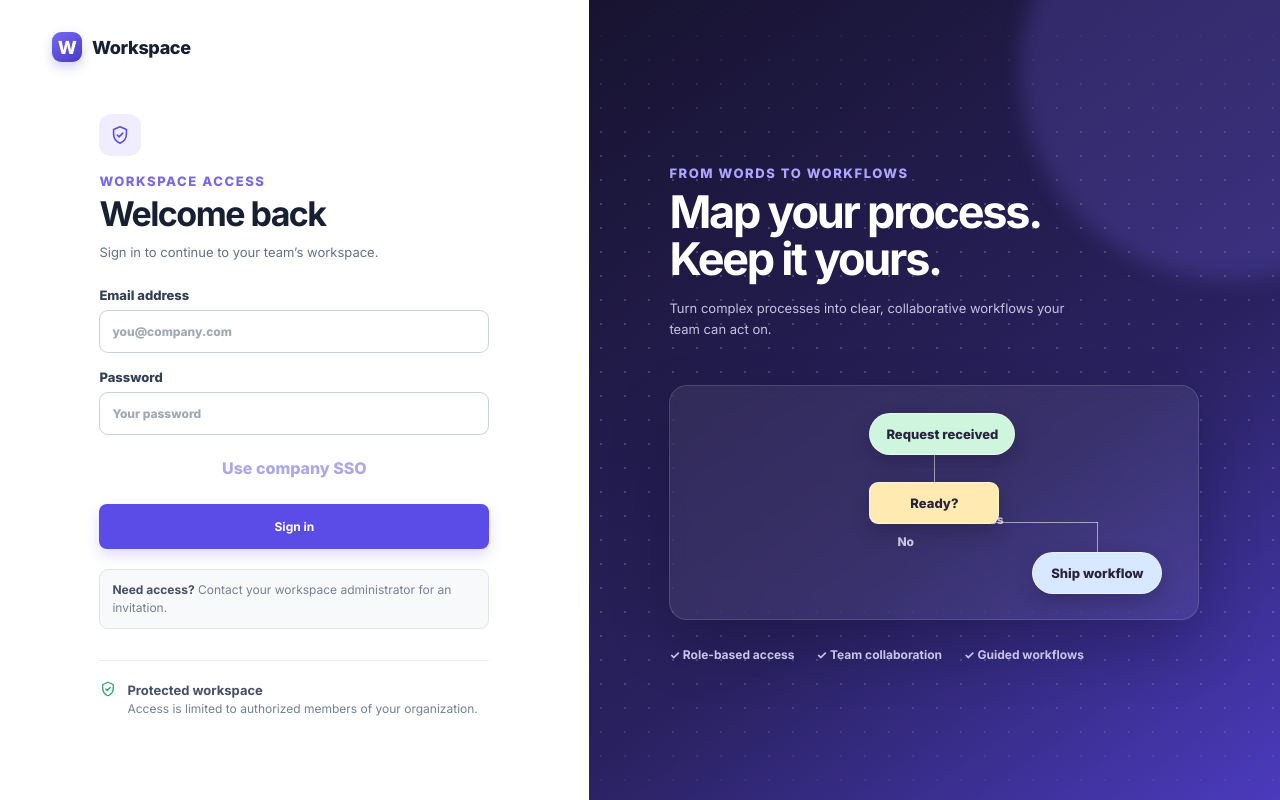
it: offers the configured provider when password login requires SSO
This screenshot has width=1280, height=800.
Type "member@acme.example" into the field labelled "Email address" at (294, 331), box [99,310,489,353]
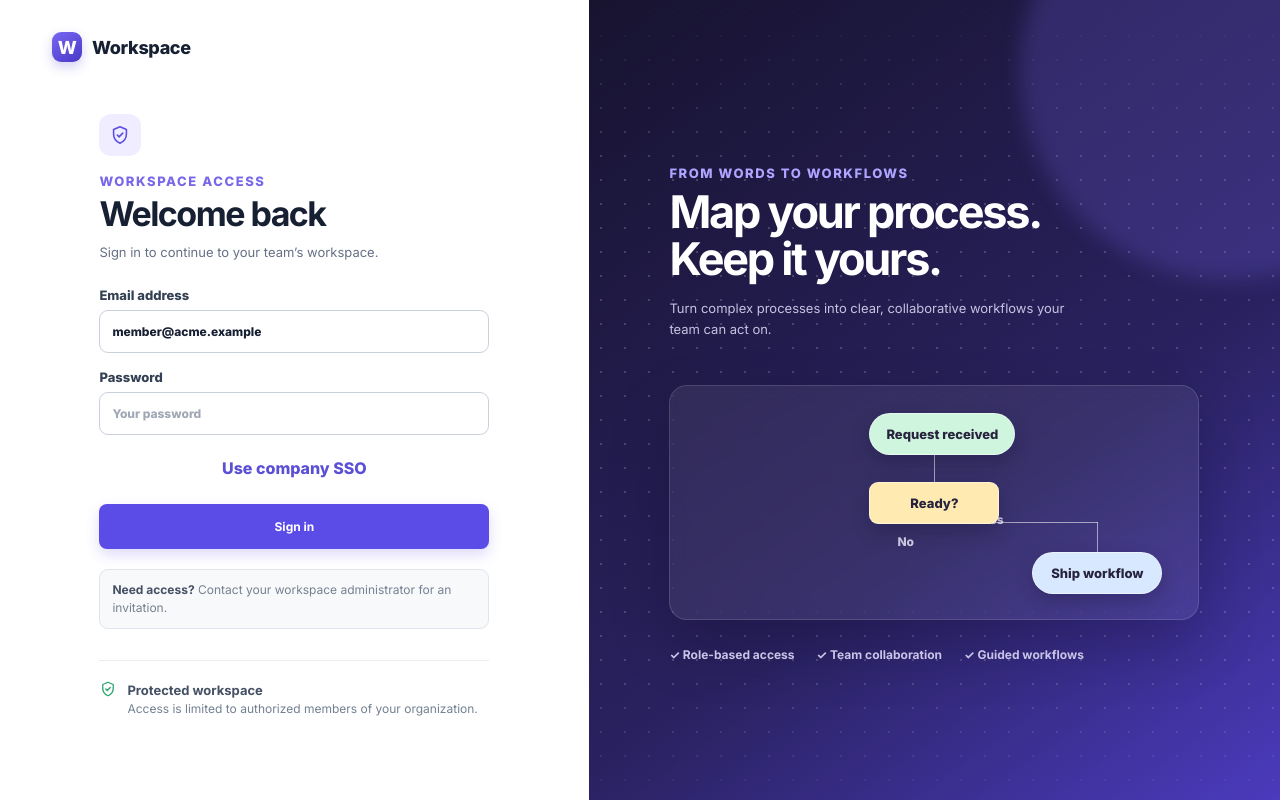
Type "SecurePass123!" into the password field labelled "Password" at (294, 413), box [99,392,489,435]
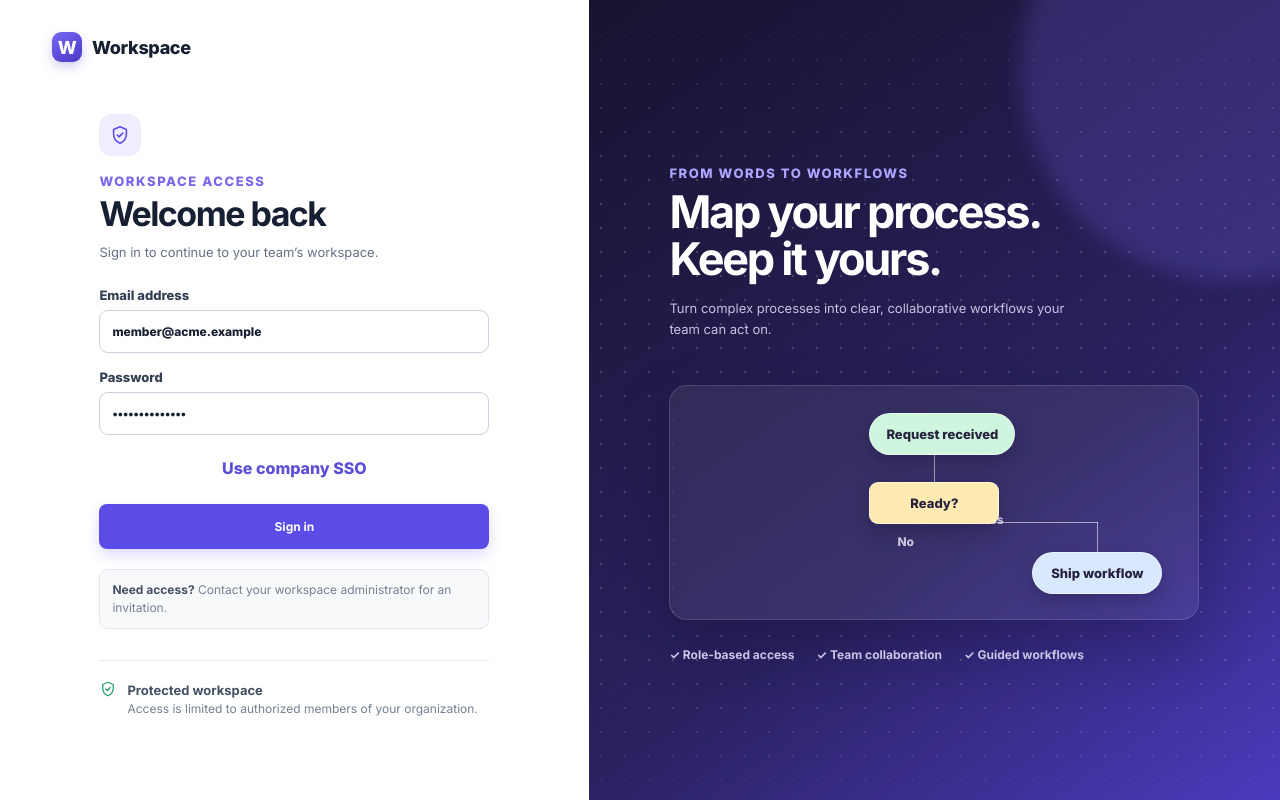
Click the button "Sign in" at (294, 526), box [99,504,489,549]
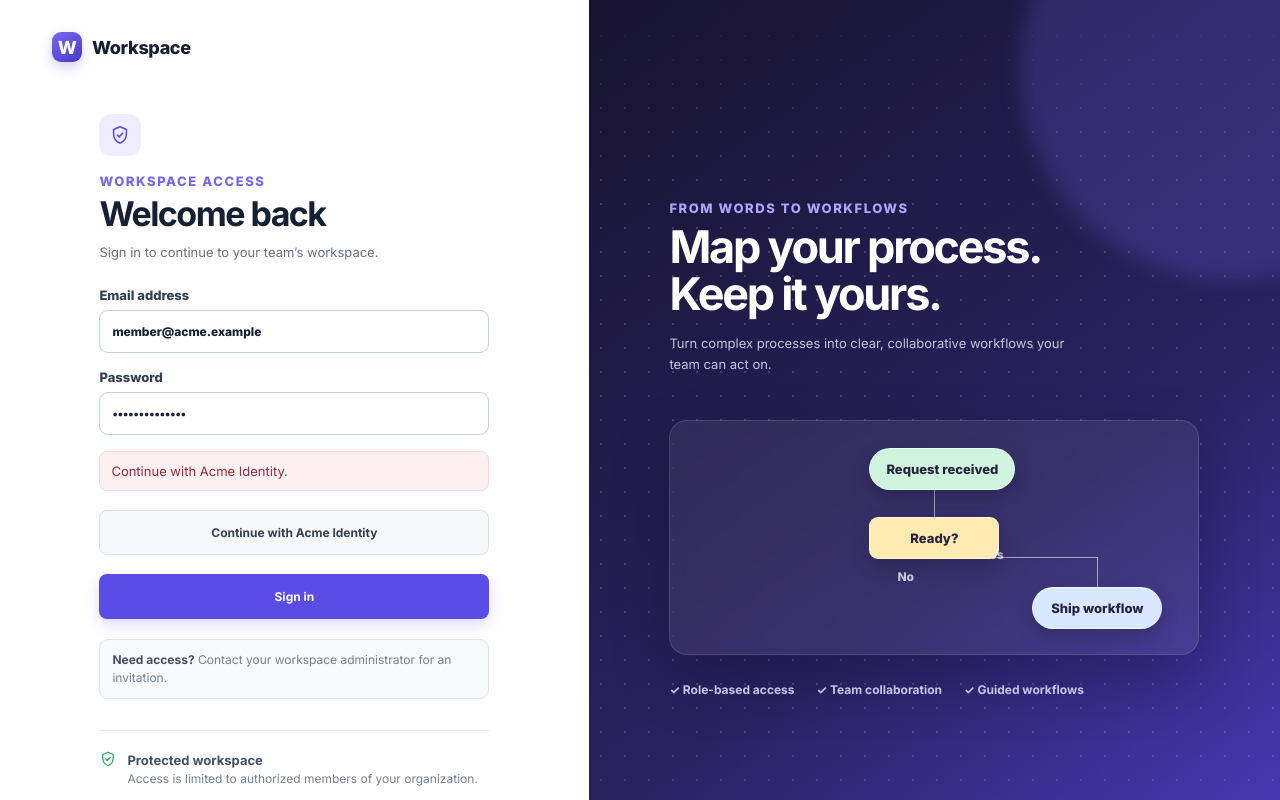
Result: the button "Continue with Acme Identity" is shown at [99,510,489,555]
Result: the message reads "Continue with Acme Identity." at [111,463,288,479]
